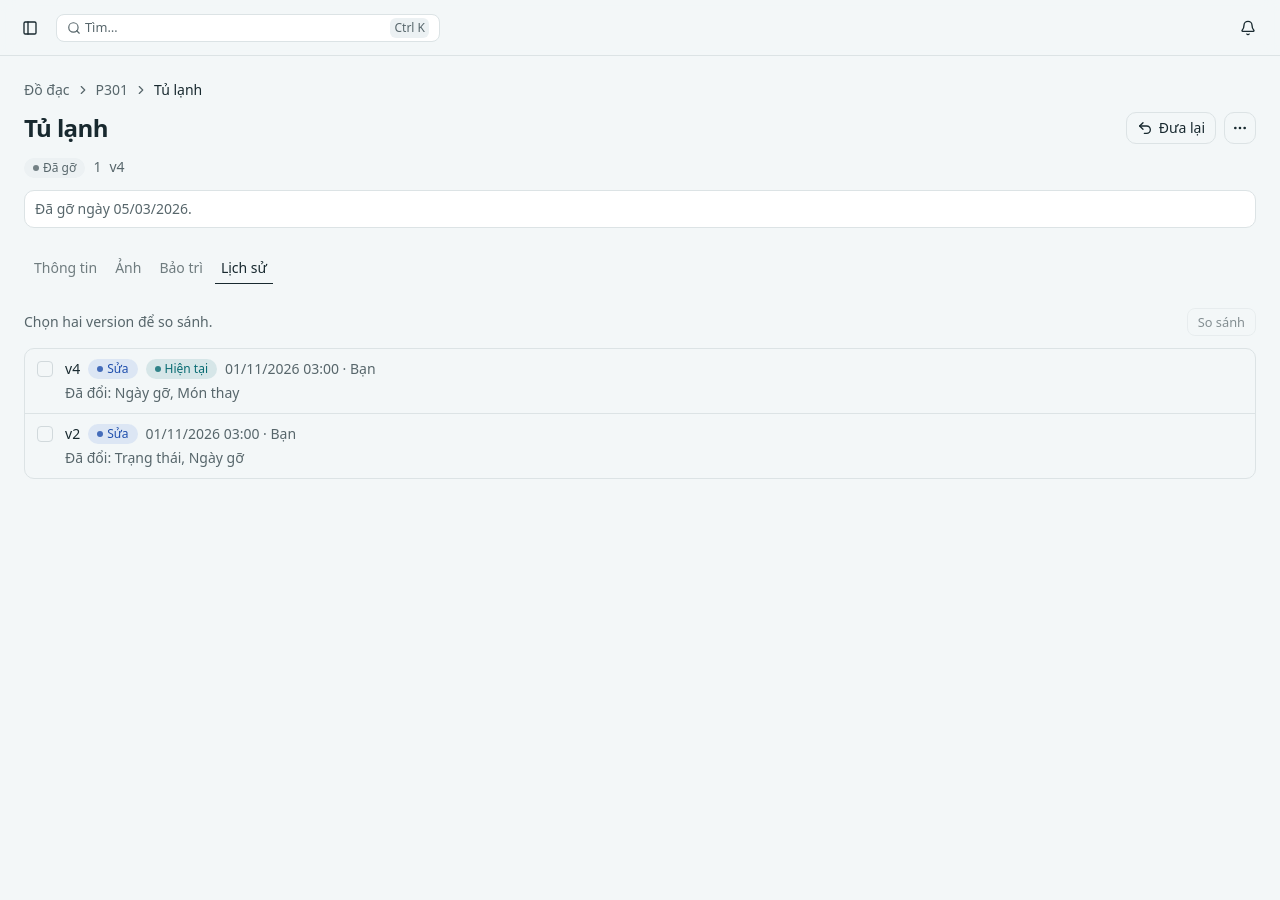
Test: comparingTwoRemovalsShowsTheRemovalDate
Click the checkbox named "Chọn v4 để so sánh": (45, 369) left=37, top=361, right=53, bottom=377
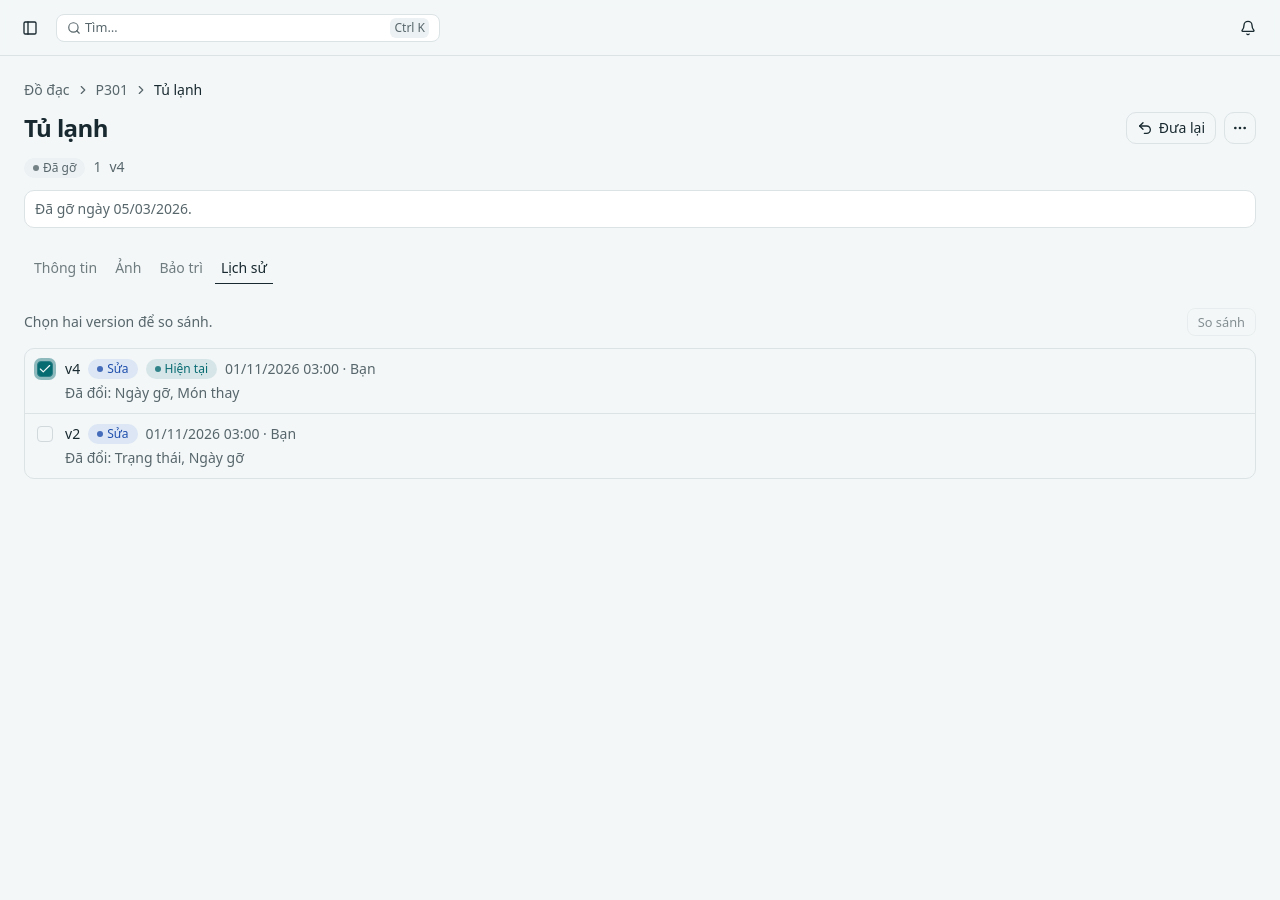
Click the checkbox named "Chọn v2 để so sánh": (45, 434) left=37, top=426, right=53, bottom=442
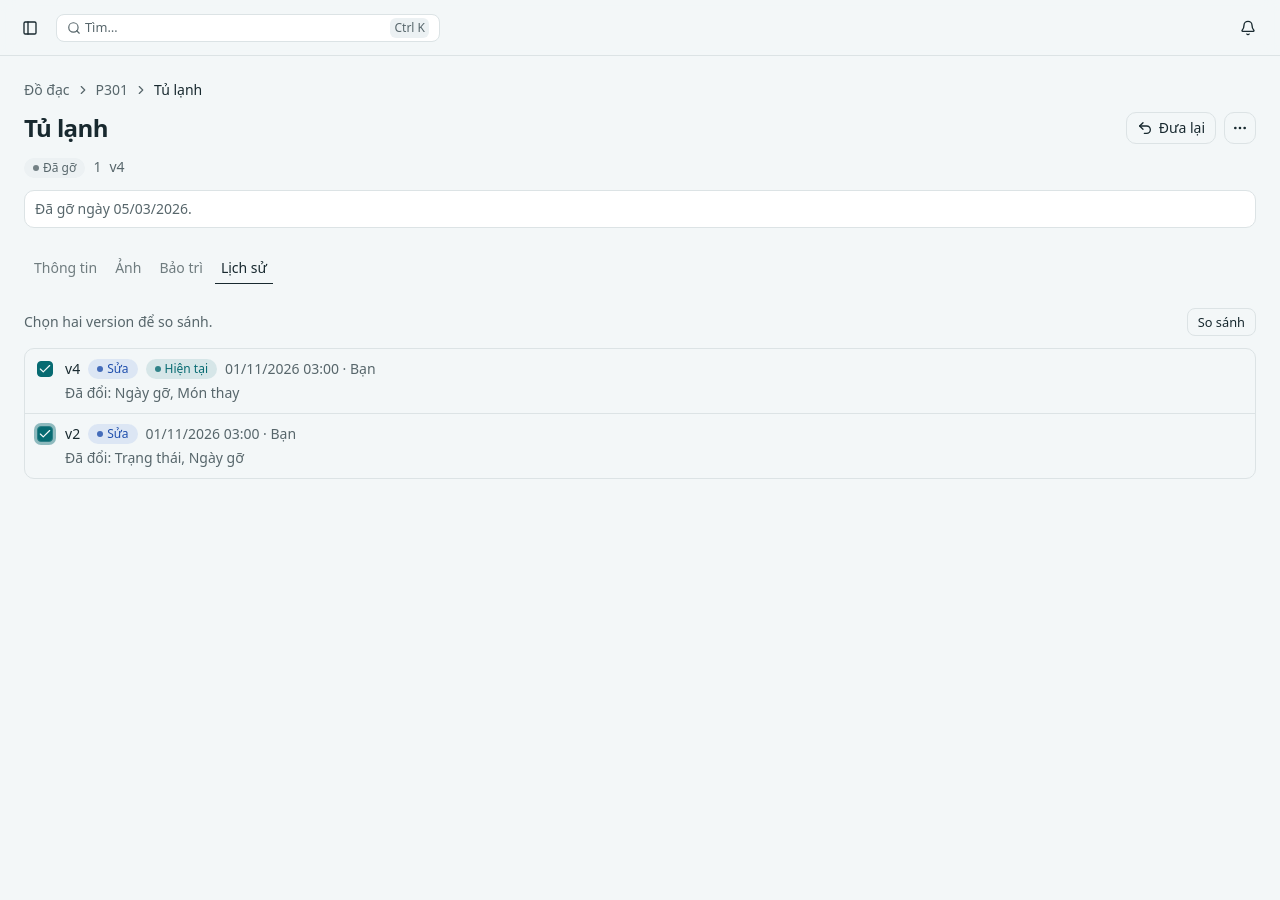
Click the button "So sánh": (1221, 322) left=1187, top=308, right=1256, bottom=336
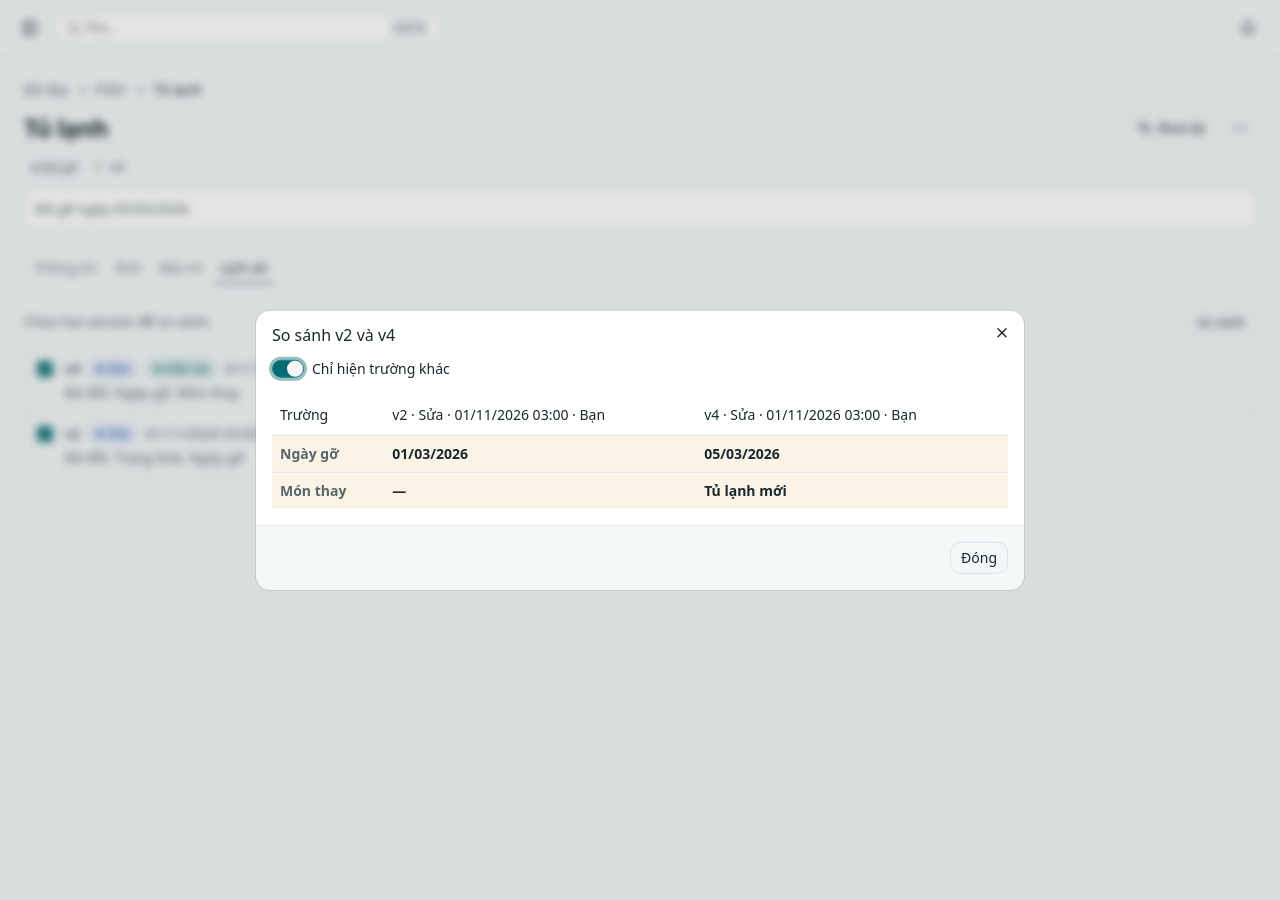
Result: the text "Tủ lạnh mới" is shown at left=696, top=472, right=1008, bottom=508
